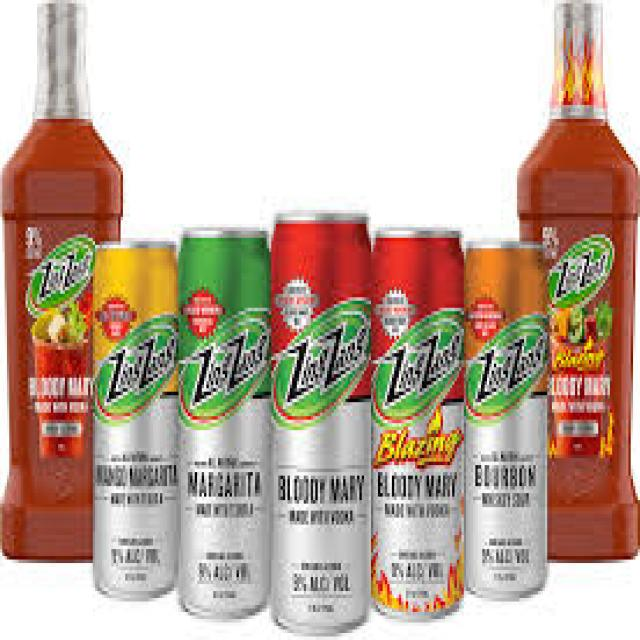Cans: (264, 206, 380, 636), (371, 217, 471, 622), (176, 224, 274, 615), (86, 238, 183, 601), (461, 227, 552, 608)
